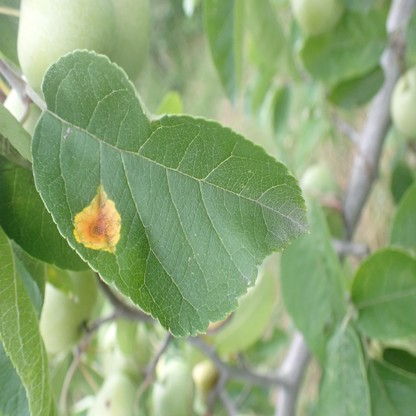powdery_mildew: (265, 198, 308, 243)
rust: (73, 186, 119, 251)
